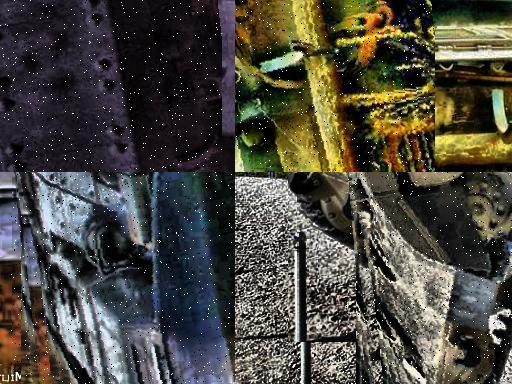tanks: (18, 173, 236, 384), (1, 1, 222, 173), (350, 173, 512, 384), (236, 3, 435, 173)
